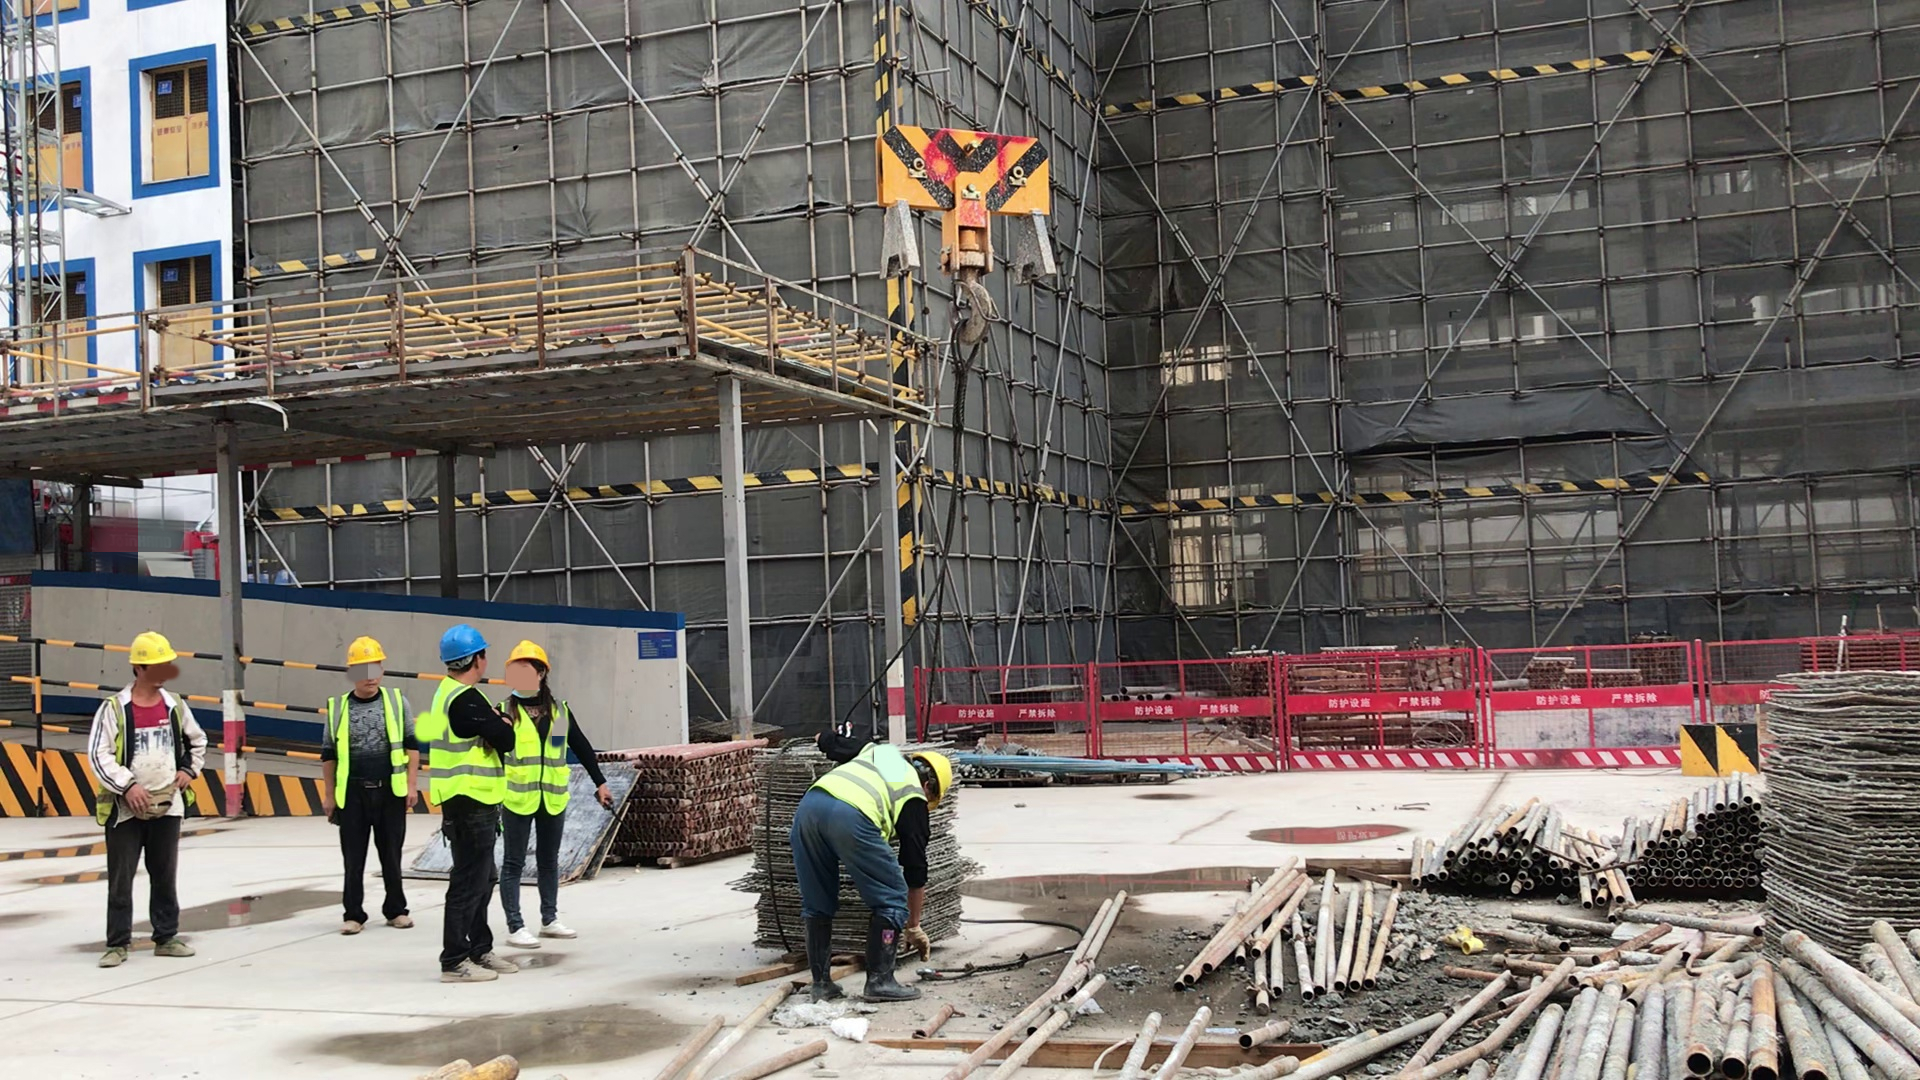helmet: (911, 752, 952, 809), (440, 627, 487, 663), (129, 632, 176, 666), (507, 641, 548, 675), (346, 636, 385, 668)
person: (796, 729, 951, 1004), (92, 634, 202, 961), (497, 641, 602, 960), (431, 629, 520, 983), (323, 635, 415, 934)
vest: (433, 685, 509, 814), (819, 743, 923, 833), (333, 689, 408, 808), (505, 701, 566, 819)
